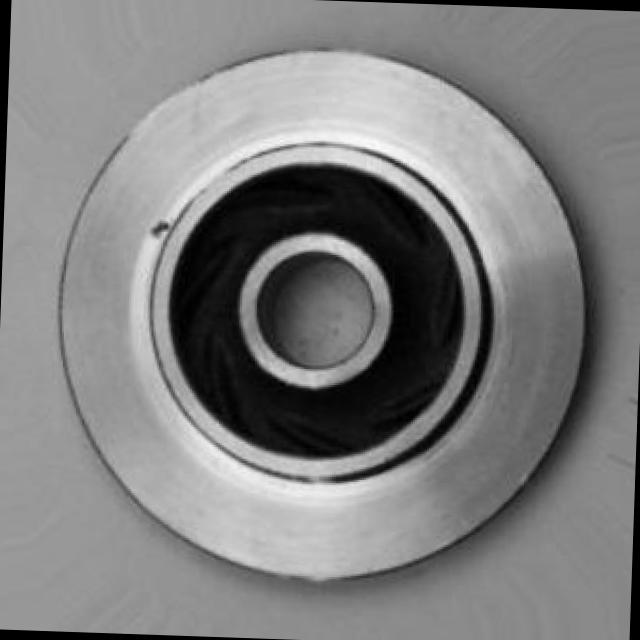Defect: (148, 212, 175, 242)
